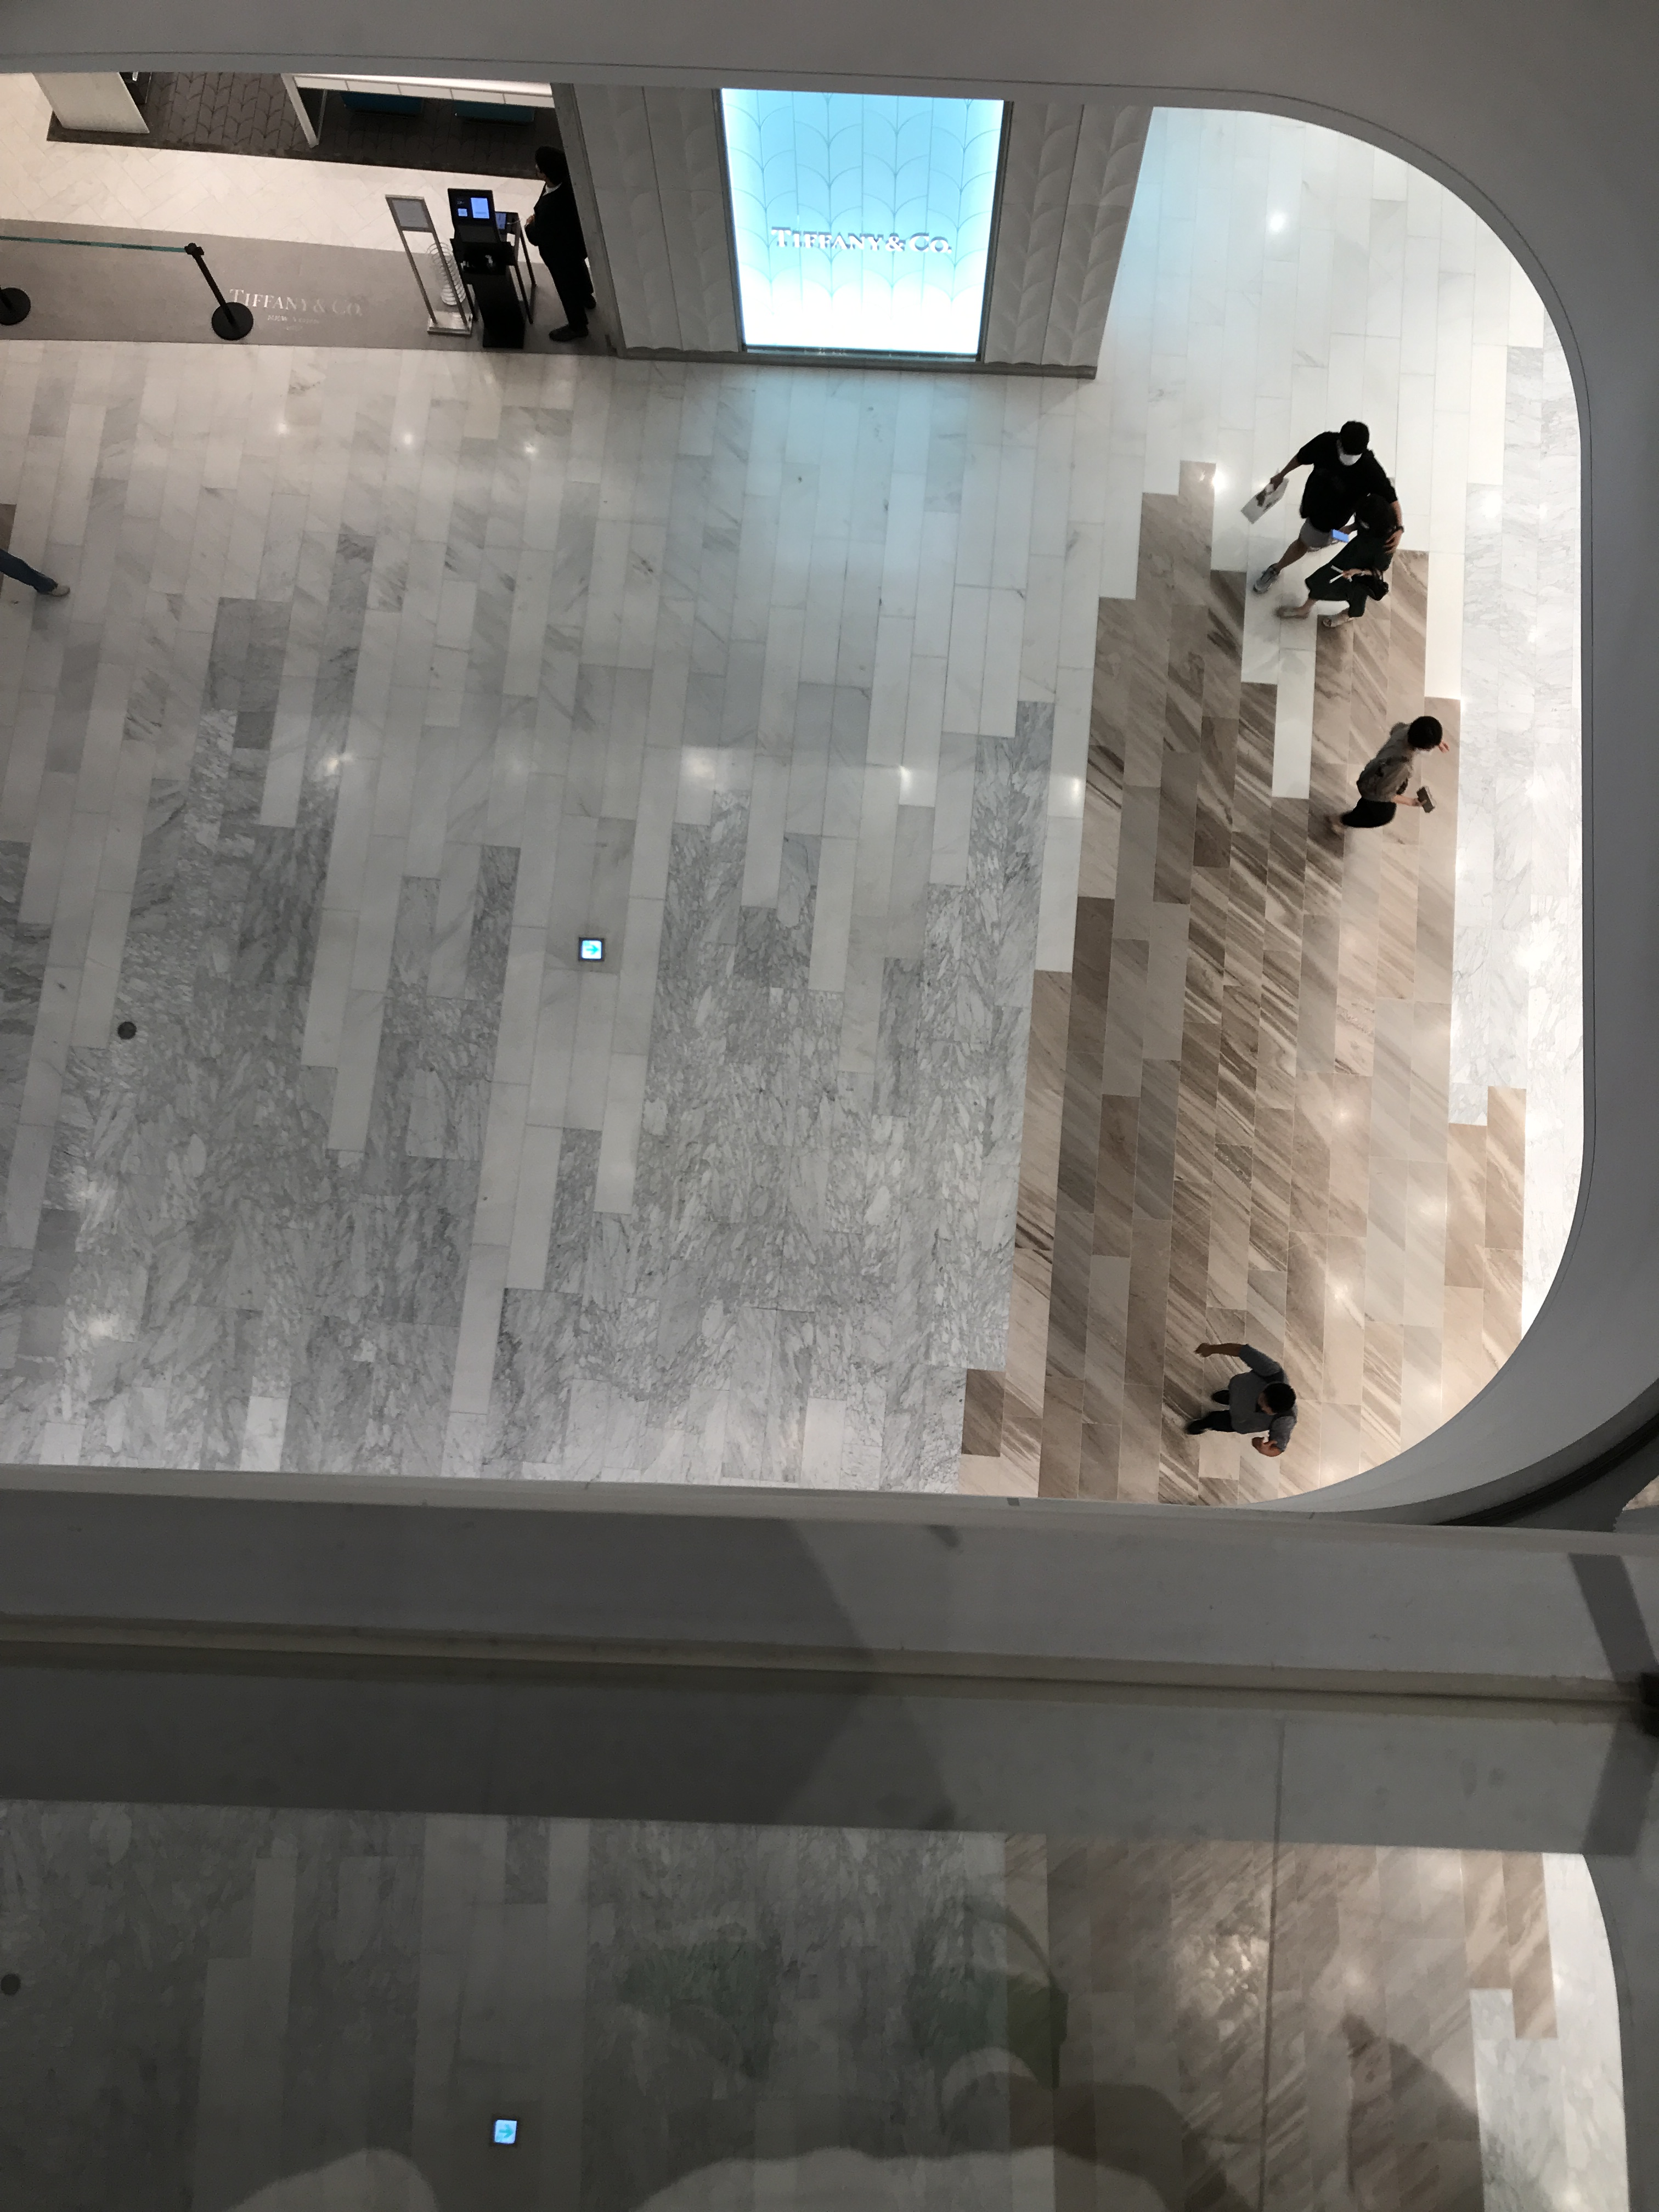person: (1252, 419, 1377, 595), (1272, 492, 1400, 634), (1325, 714, 1447, 840), (520, 147, 598, 343), (1178, 1341, 1300, 1460)
